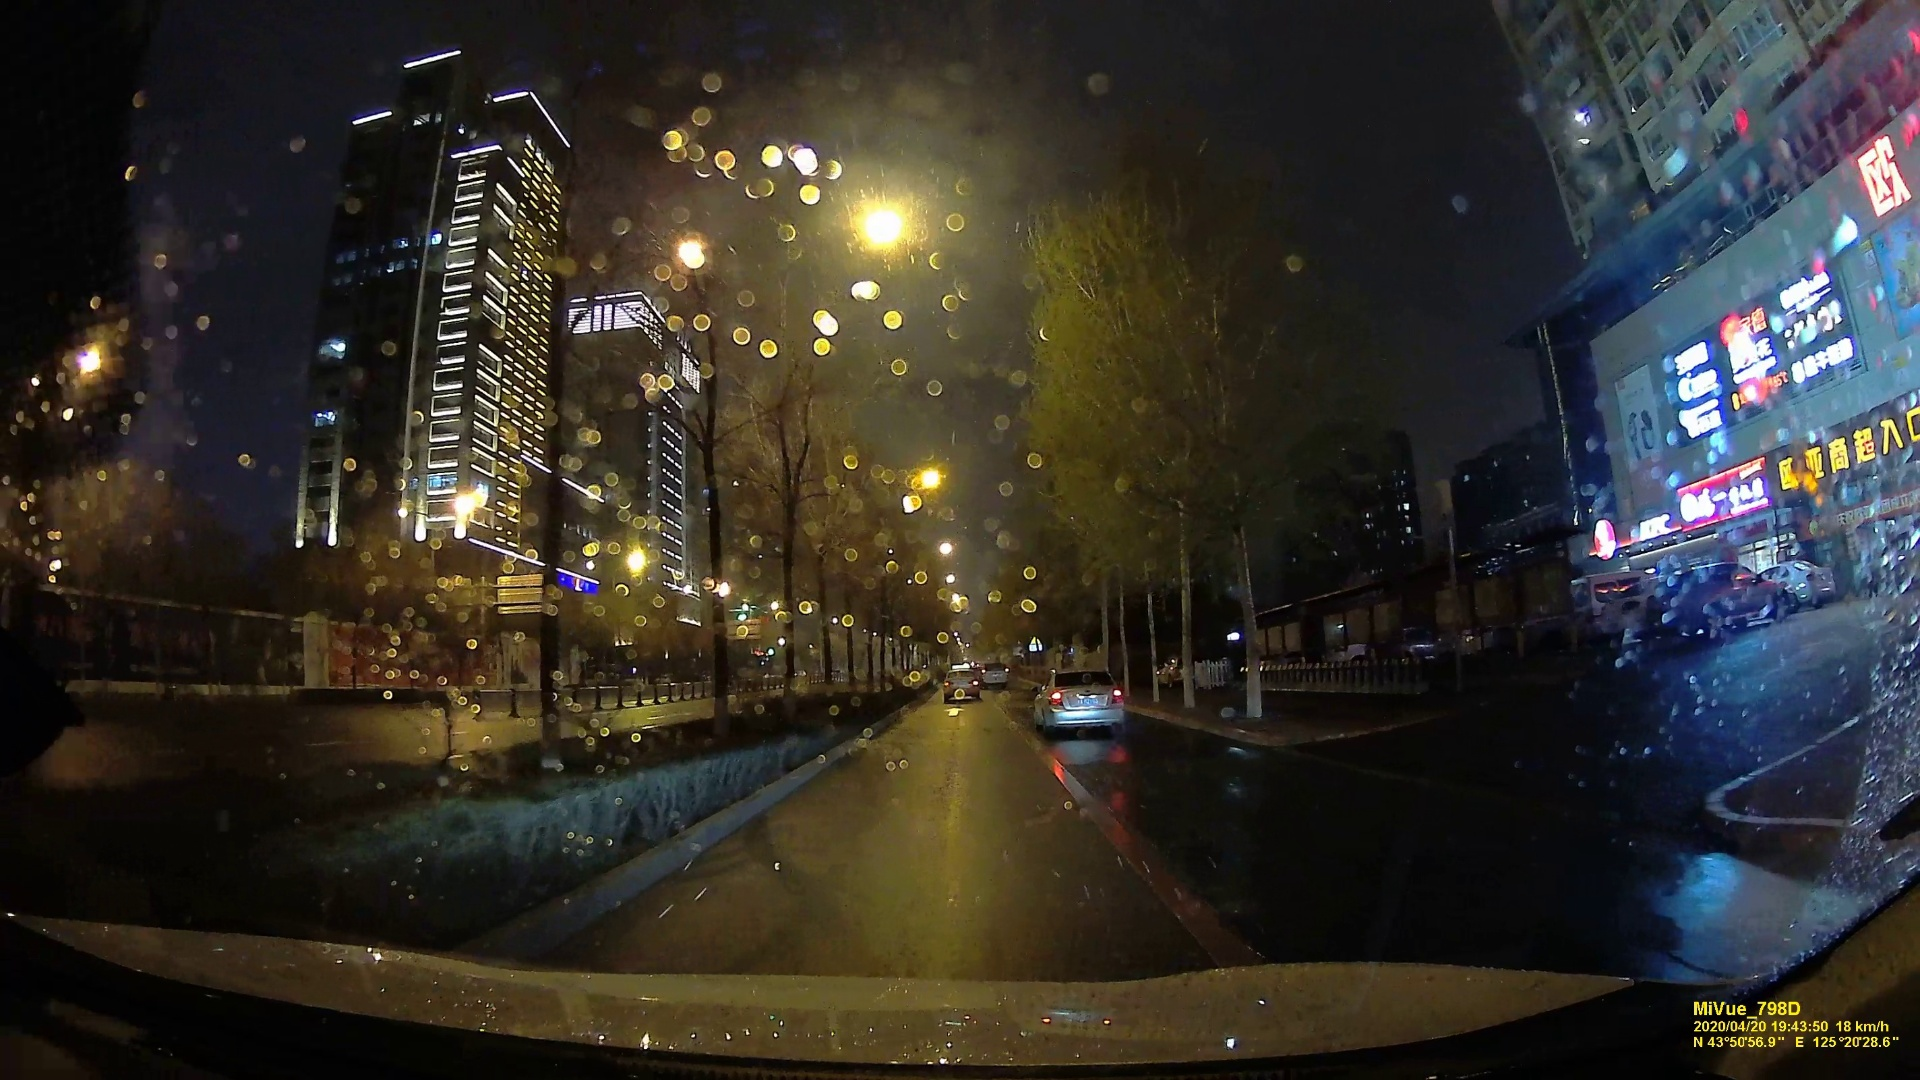vehicle: (1034, 669, 1127, 737), (943, 669, 978, 700)
